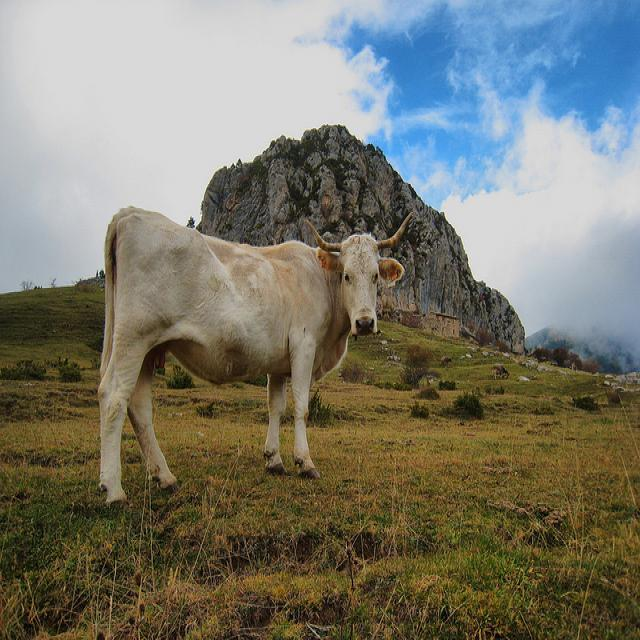cow: (96, 207, 412, 504)
